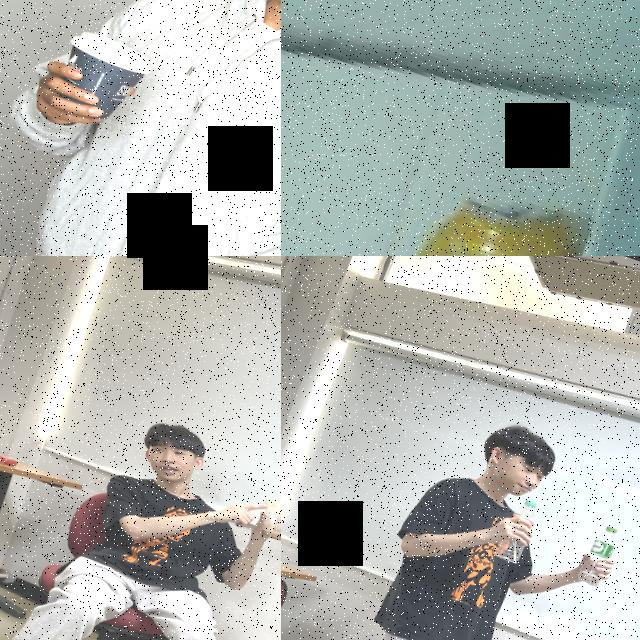bottle: (491, 494, 543, 567), (575, 520, 623, 590)
cup: (49, 24, 158, 130), (253, 494, 281, 543)
